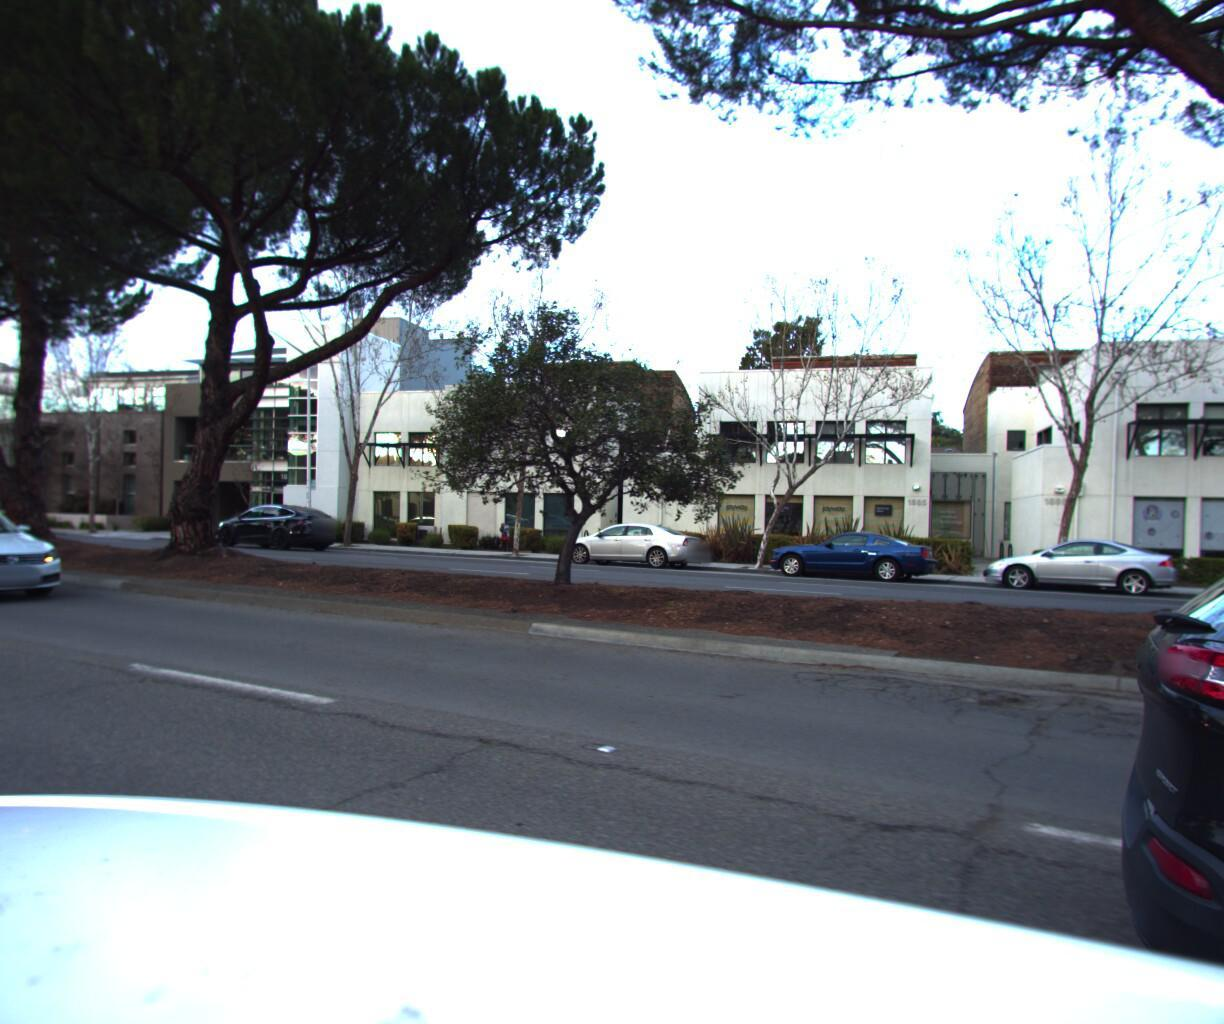car: (974, 531, 1182, 596), (752, 524, 944, 584), (0, 494, 85, 609), (546, 517, 710, 569), (210, 501, 342, 549)
